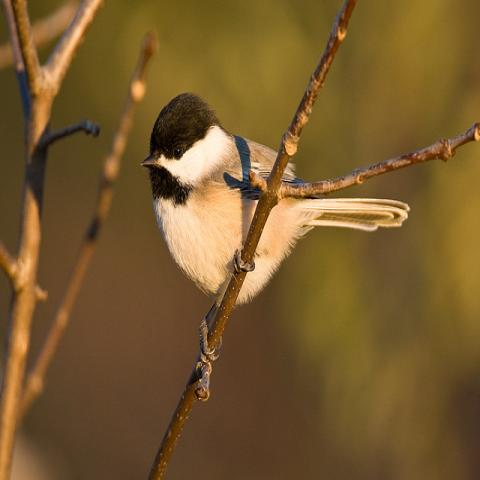bird: (138, 89, 410, 371)
